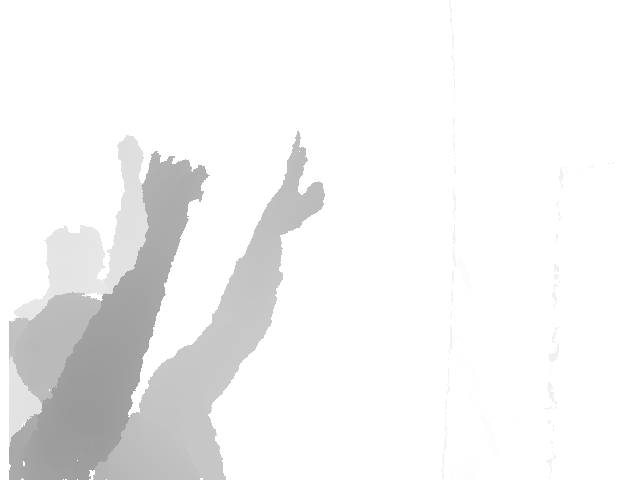hand: (267, 130, 324, 236), (140, 150, 209, 222), (117, 134, 143, 189)
head: (13, 292, 112, 406), (44, 223, 104, 290)
person: (10, 130, 325, 480), (12, 130, 149, 433)
